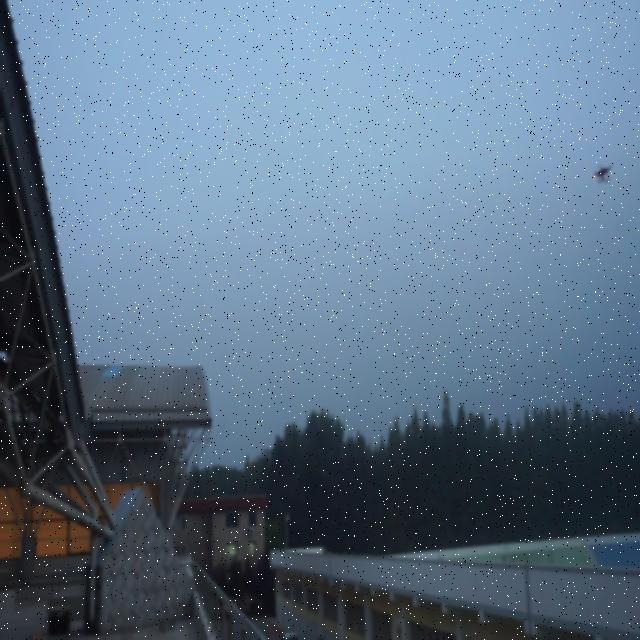UAV: (594, 164, 612, 184)
